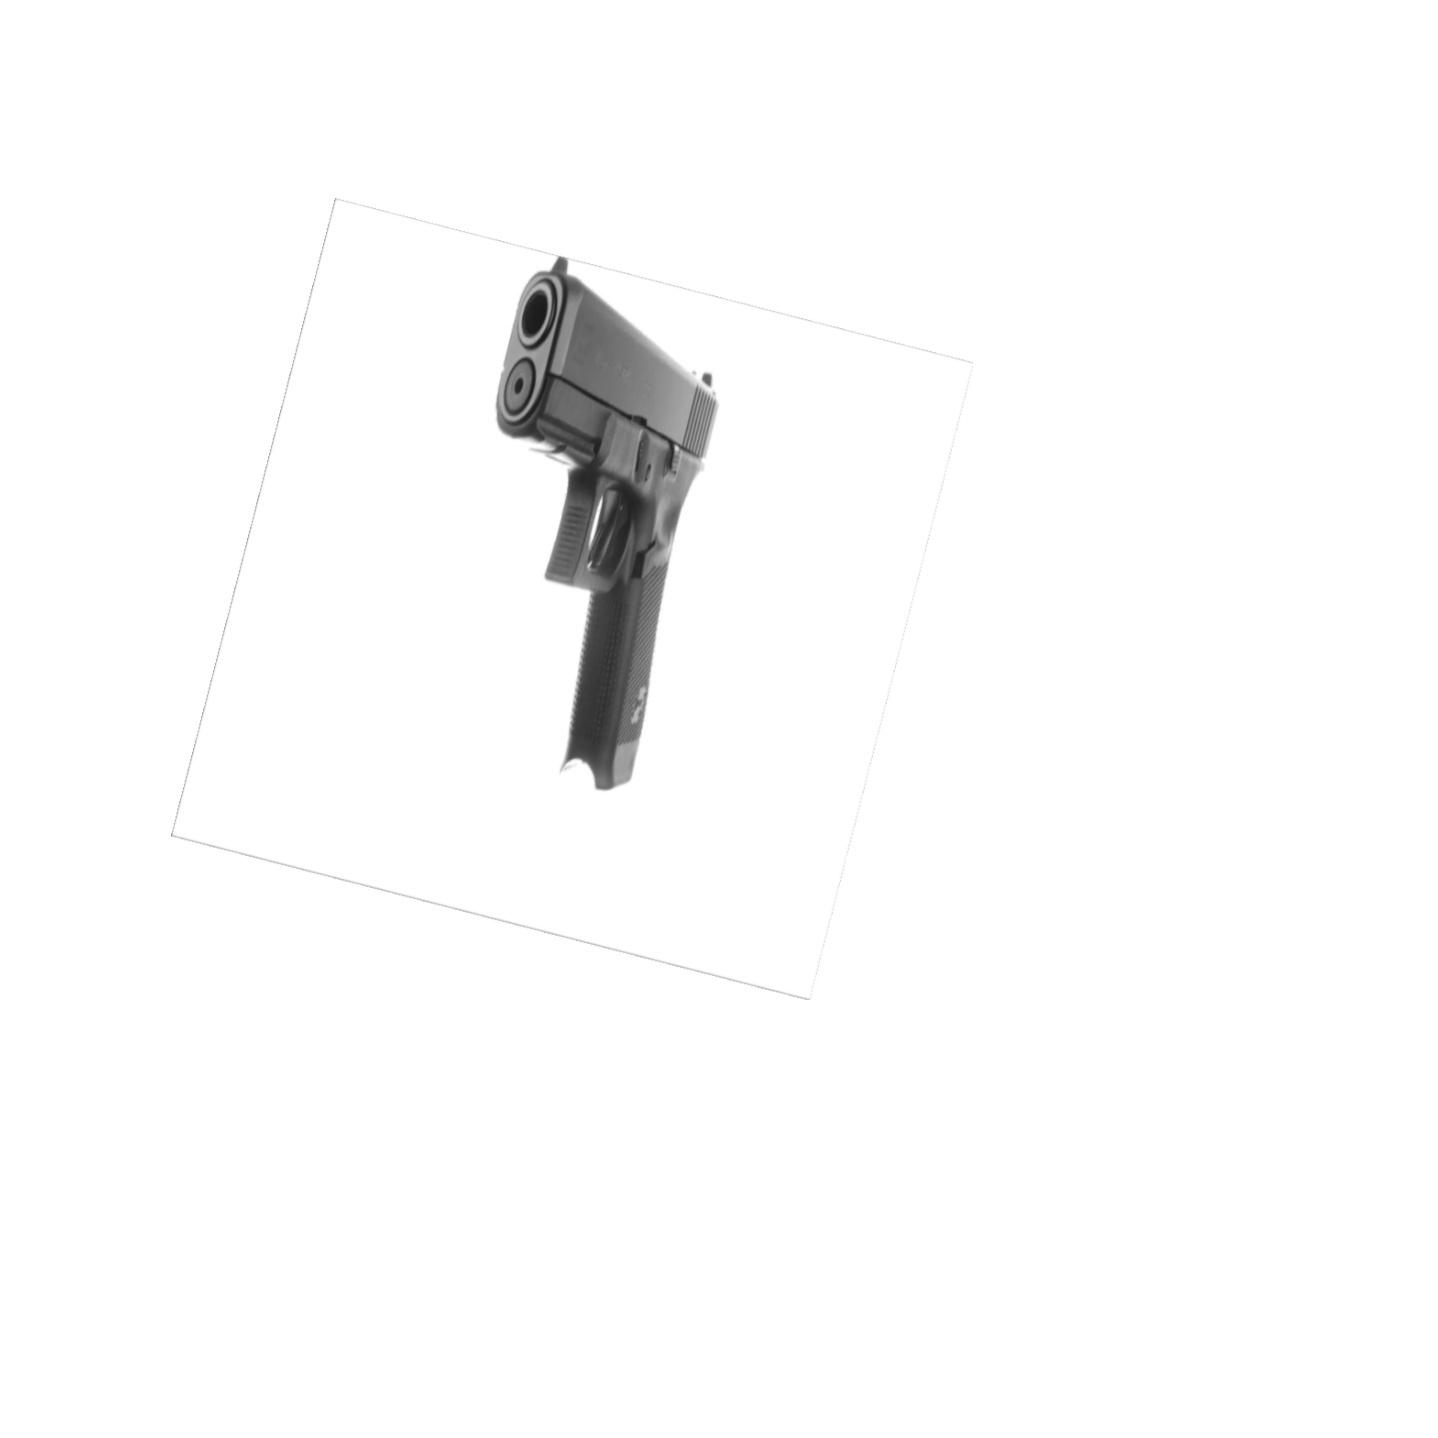gun: (493, 253, 726, 801)
